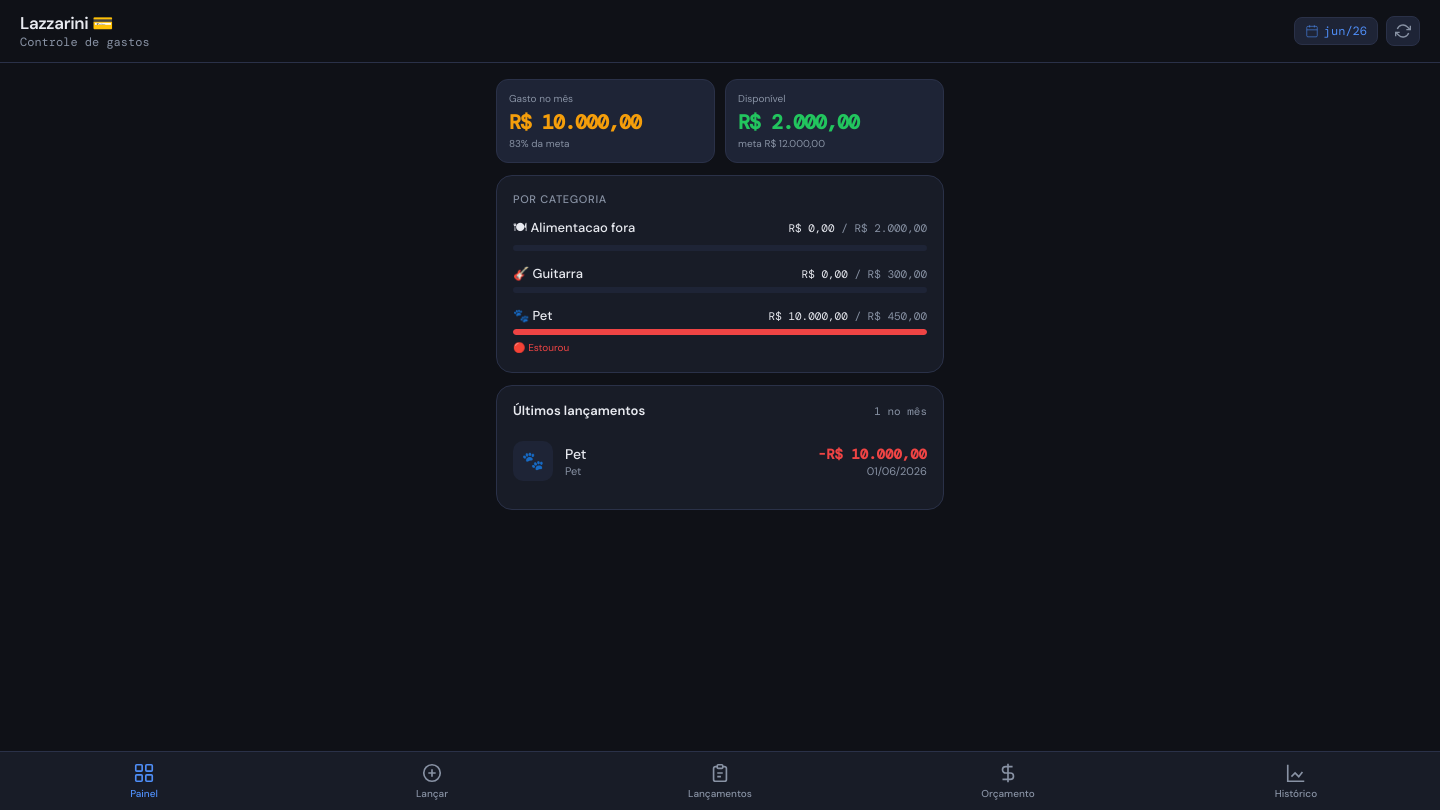
Test: Lançamentos › total lançado (singular/plural e cores) e chips das categorias usadas
Check: the text "Por categoria" is shown, box [513, 192, 607, 206]
Click the button "Lançamentos". click: click(720, 781)
box: [576, 752, 864, 809]
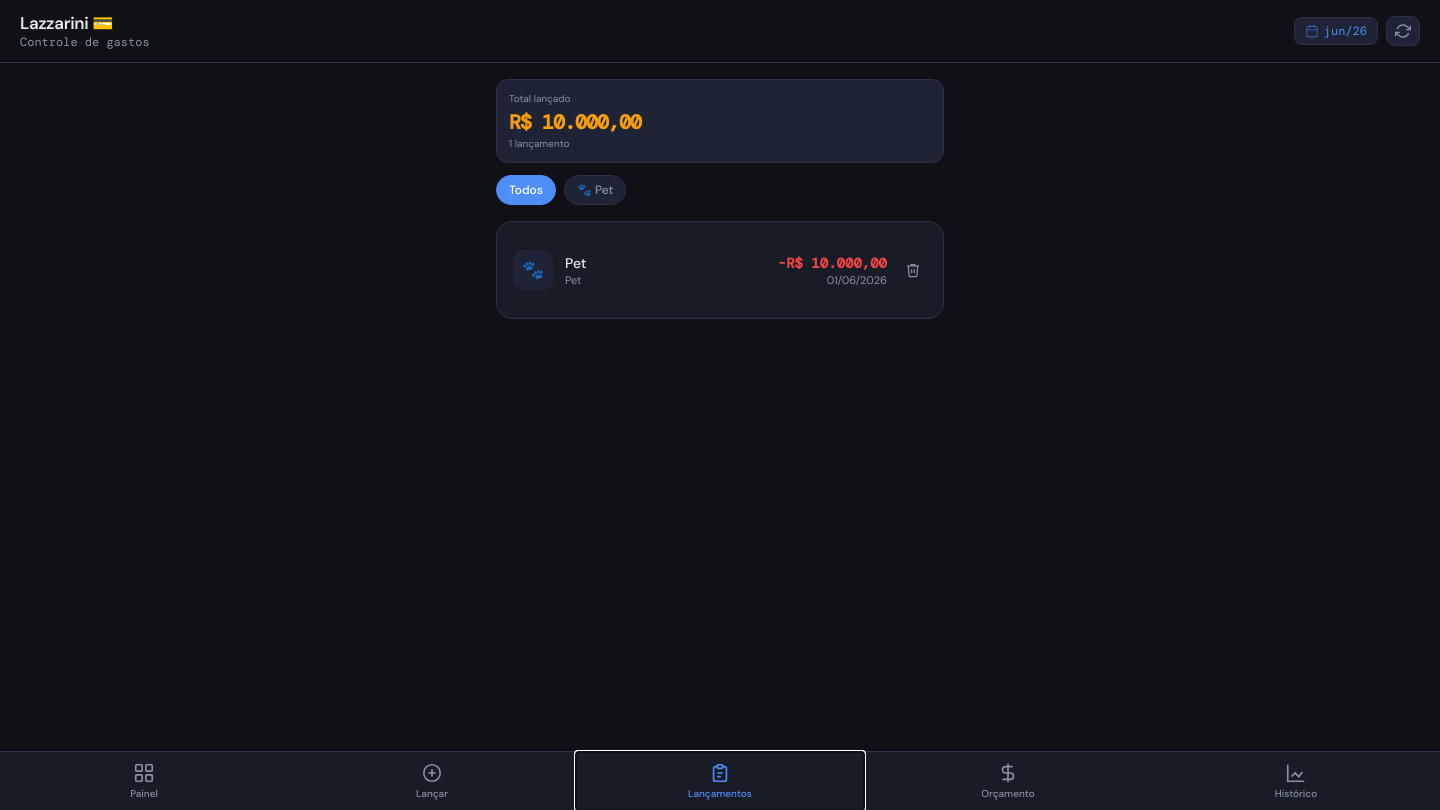
Check: the text "1 lançamento" is shown, box [509, 137, 569, 150]
